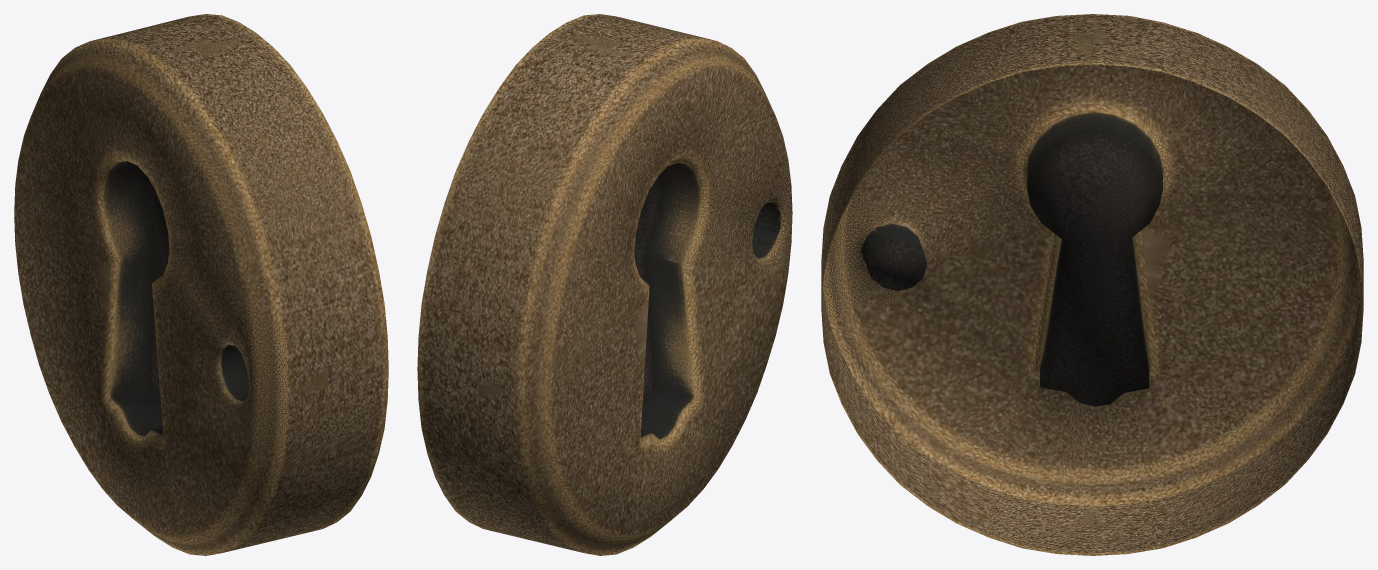
The model's file is stage4_lower_cabinet_key.fbx.
3 renders of one model, left to right at view 1: azimuth 30°, elevation 25°; view 2: azimuth 150°, elevation 25°; view 3: azimuth 270°, elevation 25°, orthographic. The views are drawn at different scales.
Parts seen in each view (by area): view 1: stage4_lower_cabinet_key; view 2: stage4_lower_cabinet_key; view 3: stage4_lower_cabinet_key.
Part boxes in pixels (left/top/right/bottom): stage4_lower_cabinet_key: left=14, top=14, right=388, bottom=555; stage4_lower_cabinet_key: left=417, top=14, right=792, bottom=555; stage4_lower_cabinet_key: left=821, top=14, right=1363, bottom=555.
Bounding box in the file's own units: 1.02 × 3.82 × 3.82.
